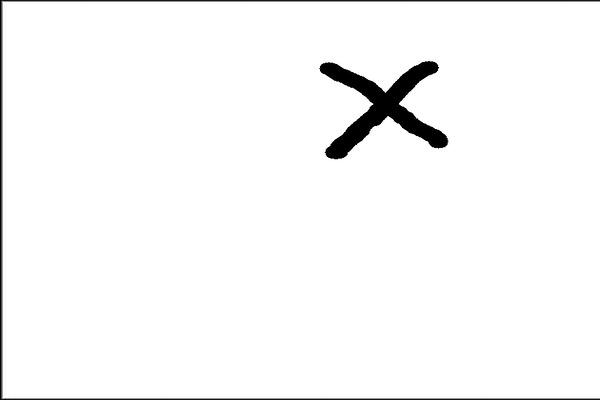X: (295, 43, 478, 162)
